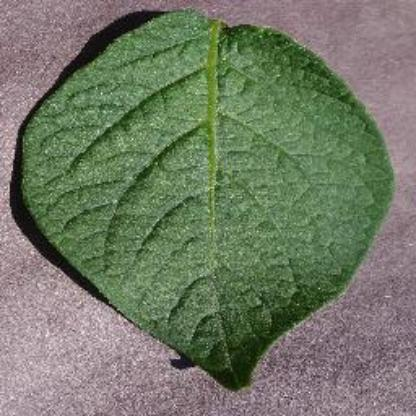Healthy-plant: (16, 5, 394, 393)
